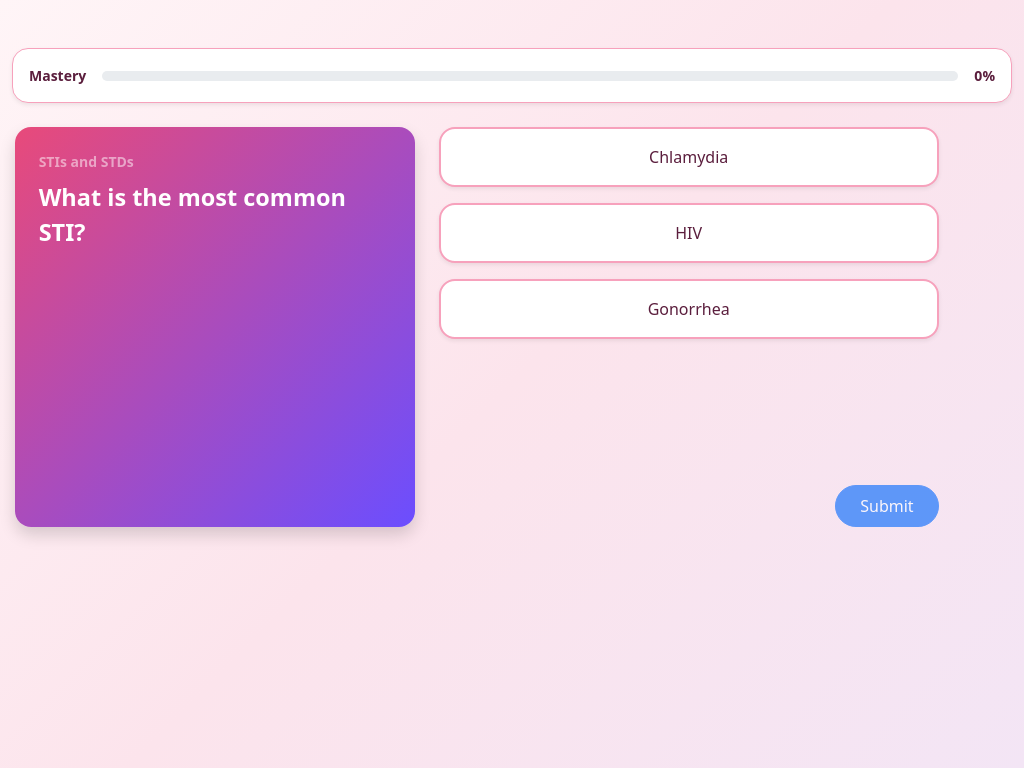
Test: Quiz page › advances to next question on correct answer + submit
The image size is (1024, 768).
Click the button "Chlamydia": (689, 157) [439, 127, 939, 187]
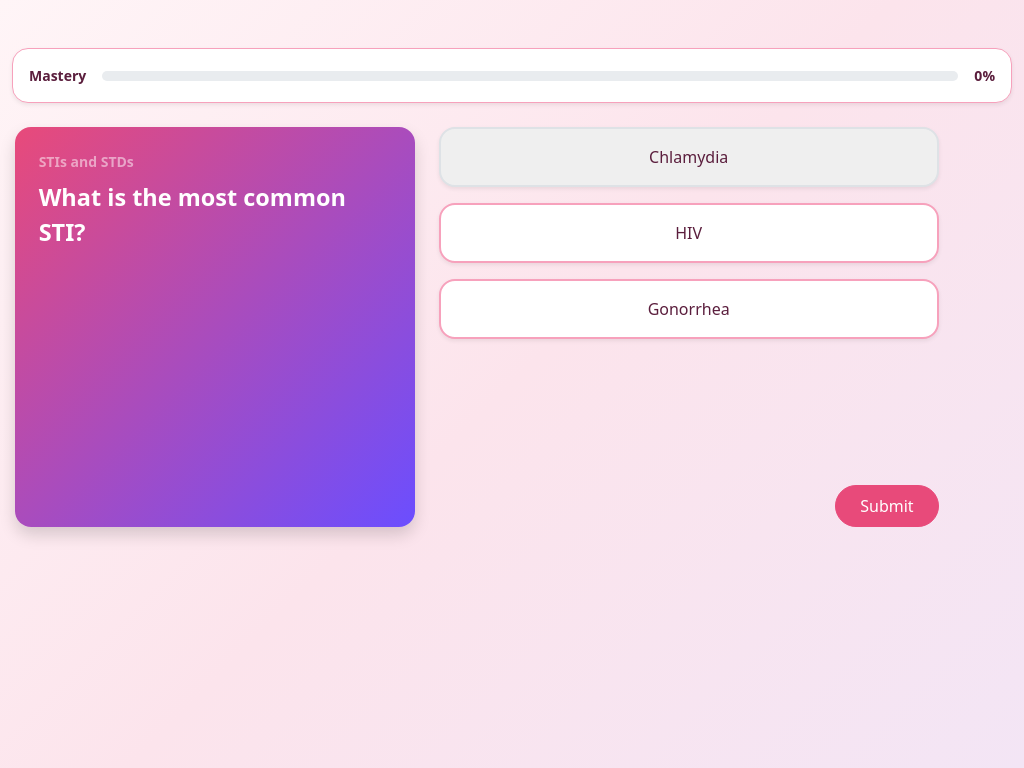
Click the button "Submit": (887, 506) [835, 485, 939, 527]
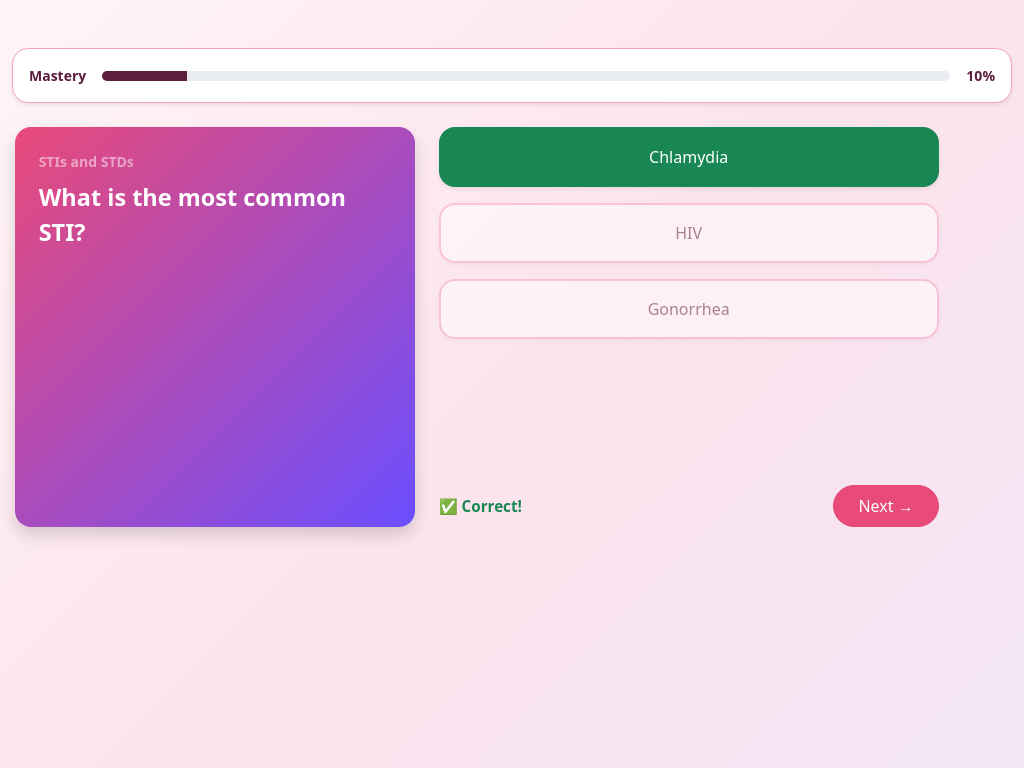
Expected: the button "Next →" is shown
Click the button "Next →": (886, 506) [833, 485, 939, 527]
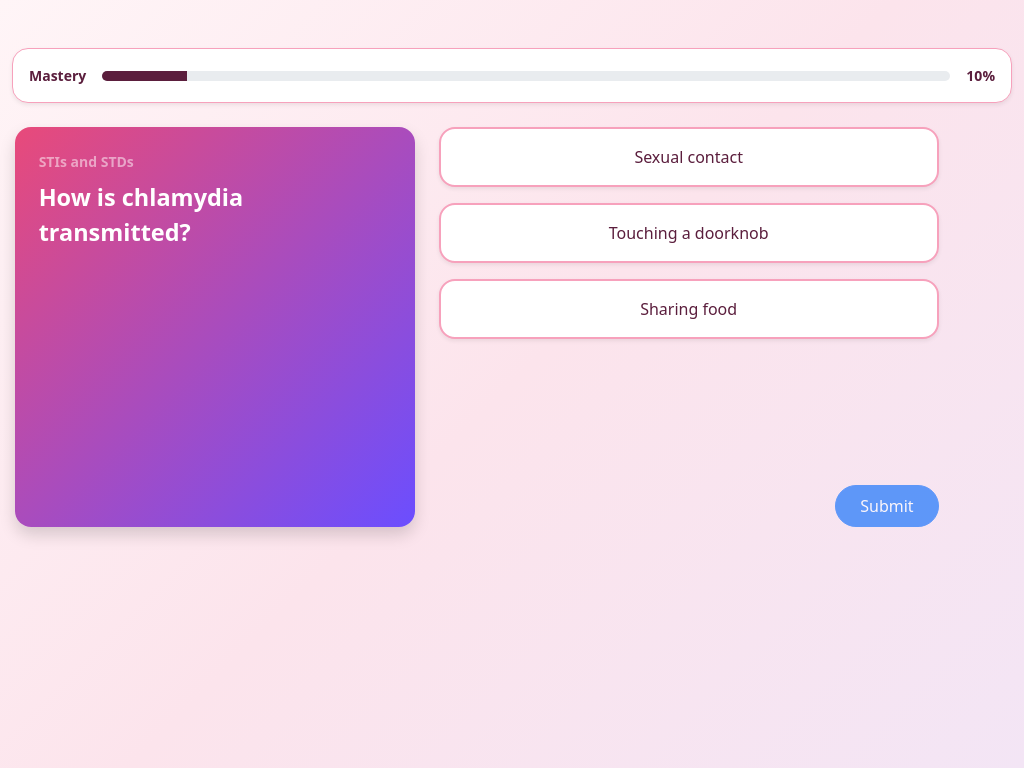
Expected: the text "How is chlamydia transmitted?" is shown, [39, 181, 243, 248]
